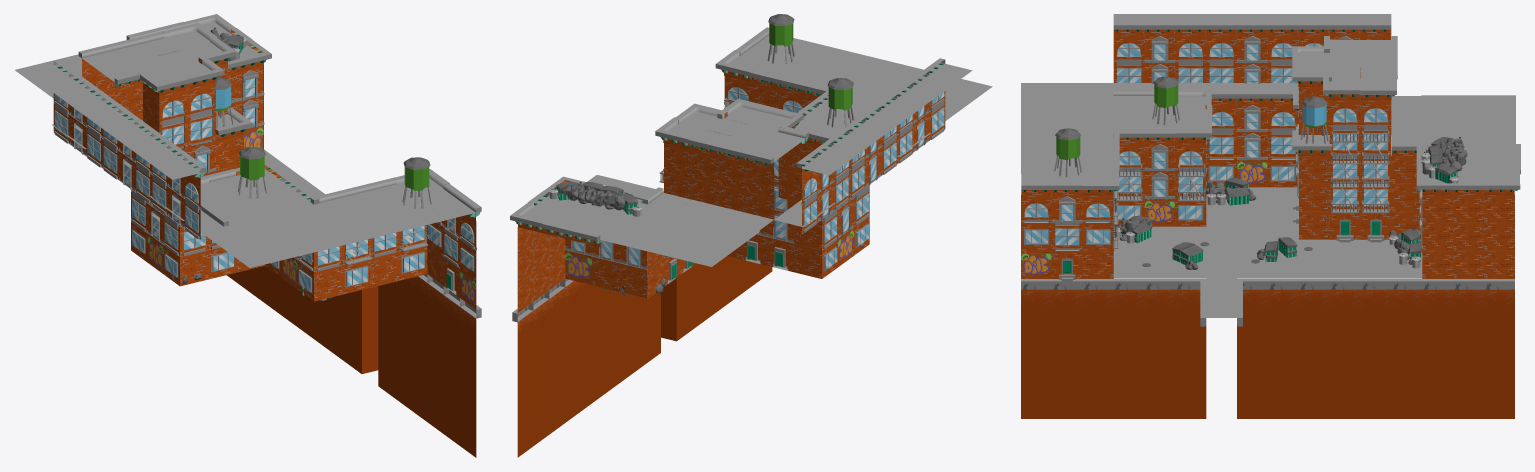
Rendered from kamer_001_ randomized.fbx.
3 renders of one model, left to right at view 1: azimuth 30°, elevation 25°; view 2: azimuth 150°, elevation 25°; view 3: azimuth 270°, elevation 25°, orthographic. The views are drawn at different scales.
Visible parts, largest first — view 1: Cylinder.017, Cylinder.018, Plane.794, Plane.793, Plane.855, Plane.891, Plane.851, Plane.1012, Plane.1003, Plane.850, Plane.852, Plane.854 (+119 smaller); view 2: Cylinder.017, Cylinder.018, Plane.989, Plane.855, Plane.793, Plane.854, Plane.896, Plane.863, Plane.214, Plane.786, Plane.894, Plane.861 (+86 smaller); view 3: Cylinder.018, Cylinder.017, Cylinder.019, Plane.963, Plane.938, Plane.960, Plane.823, Plane.986, Plane.923, Plane.944, Plane.955, Plane.820 (+166 smaller).
Part boxes in pixels (x1,y1,x2,y2): Cylinder.017: [402, 157, 431, 209]; Cylinder.018: [237, 146, 266, 198]; Plane.794: [138, 69, 190, 95]; Plane.793: [170, 55, 224, 88]; Plane.855: [162, 22, 217, 49]; Plane.891: [235, 65, 264, 101]; Plane.851: [187, 112, 216, 147]; Plane.1012: [314, 265, 342, 301]; Plane.1003: [370, 251, 398, 287]; Plane.850: [187, 82, 216, 118]; Plane.852: [159, 89, 187, 125]; Plane.854: [183, 37, 236, 65]; Cylinder.017: [767, 14, 794, 64]; Cylinder.018: [827, 78, 854, 127]; Plane.989: [715, 50, 767, 82]; Plane.855: [655, 117, 706, 149]; Plane.793: [717, 98, 770, 125]; Plane.854: [676, 103, 727, 130]; Plane.896: [592, 256, 620, 291]; Plane.863: [746, 163, 774, 198]; Plane.214: [510, 202, 559, 233]; Plane.786: [794, 243, 821, 278]; Plane.894: [565, 250, 592, 285]; Plane.861: [719, 156, 746, 191]; Cylinder.018: [1152, 76, 1180, 125]; Cylinder.017: [1054, 128, 1081, 177]; Cylinder.019: [1300, 96, 1328, 143]; Plane.963: [1144, 34, 1175, 63]; Plane.938: [1175, 34, 1206, 62]; Plane.960: [1113, 34, 1144, 62]; Plane.823: [1329, 212, 1360, 242]; Plane.986: [1052, 251, 1082, 281]; Plane.923: [1144, 143, 1175, 172]; Plane.944: [1237, 34, 1267, 63]; Plane.955: [1237, 103, 1267, 132]; Plane.820: [1329, 100, 1360, 128].
Bounding box in the file's own units: 1200 × 1043 × 1619.
